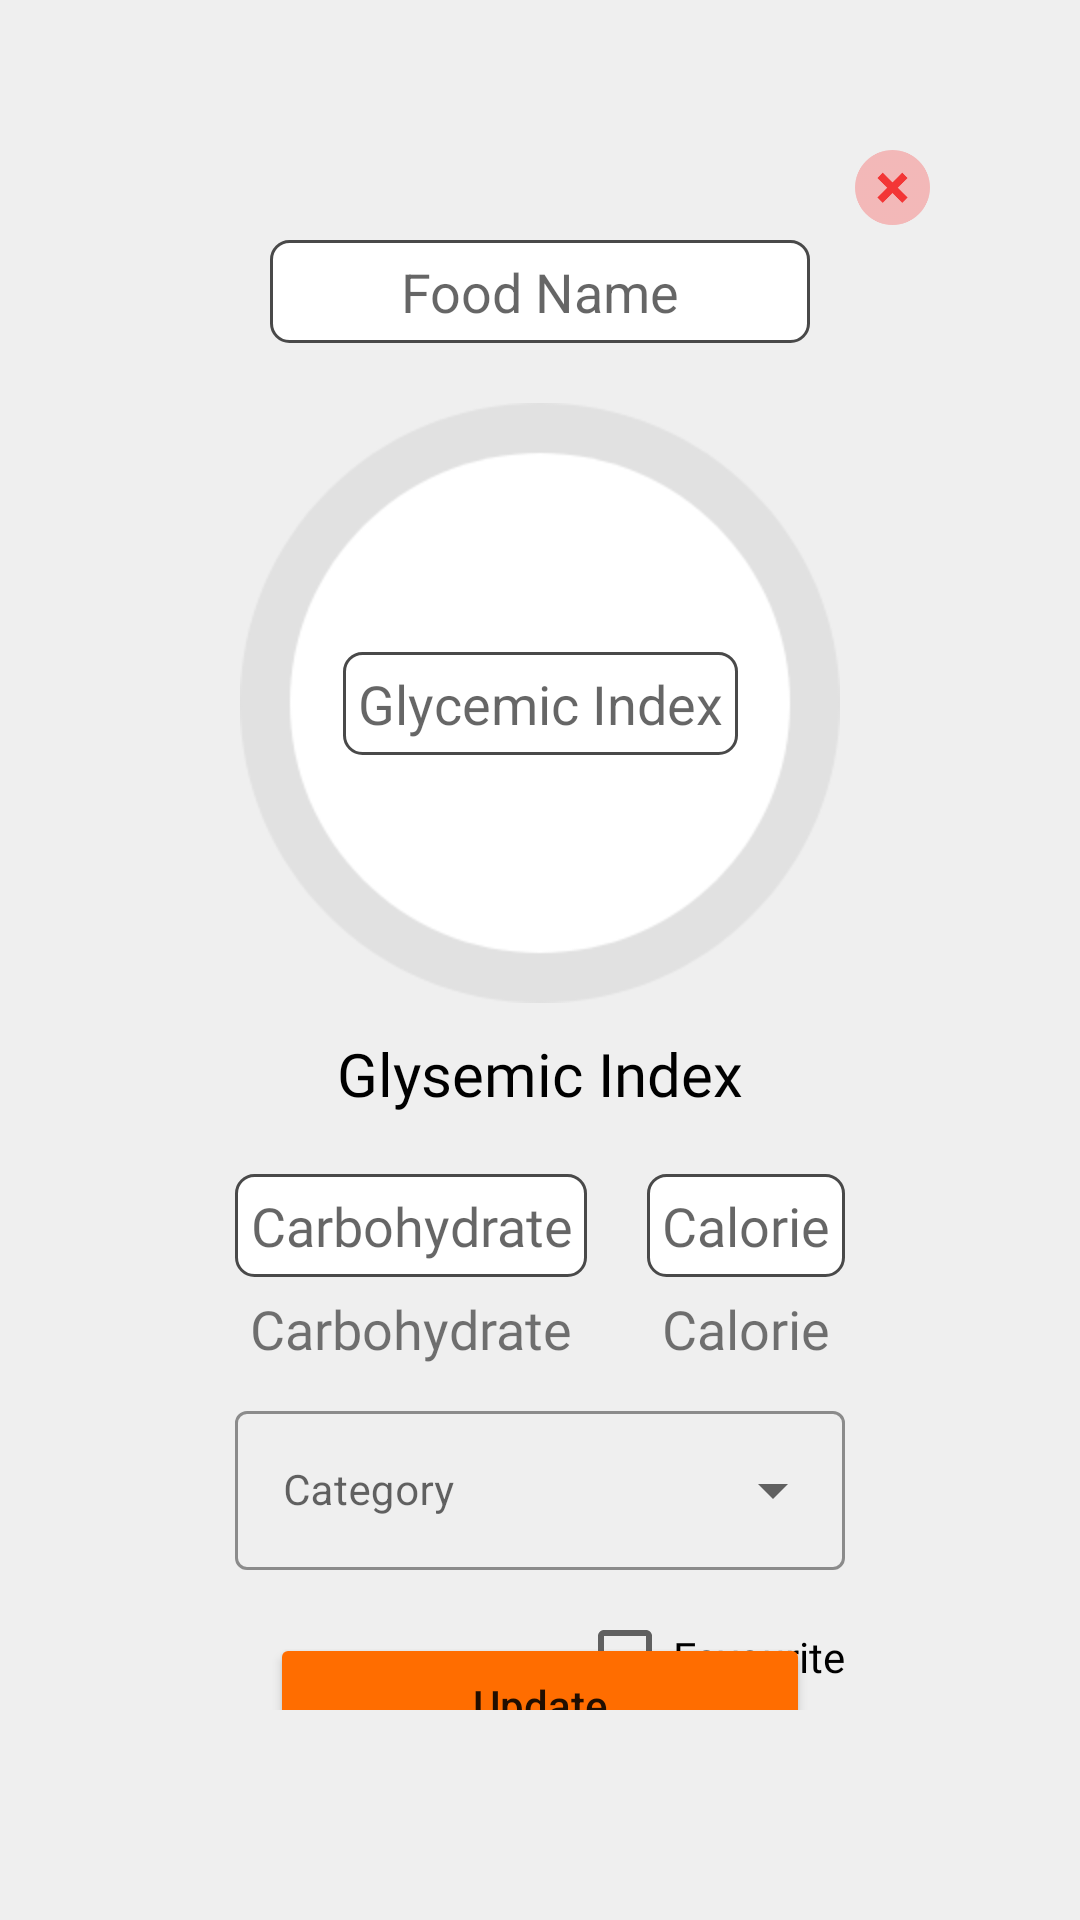

Locate icon controls on the screen. Image size 1080w x 1920h, boxes as box=[x1, y1, x2, y2].
exit: box=[855, 150, 930, 225]
